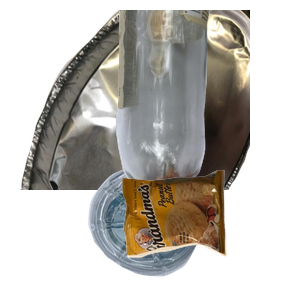glass: (113, 10, 300, 190)
metal: (18, 10, 258, 190)
plastic: (86, 163, 282, 300)
trash: (120, 168, 300, 300)
